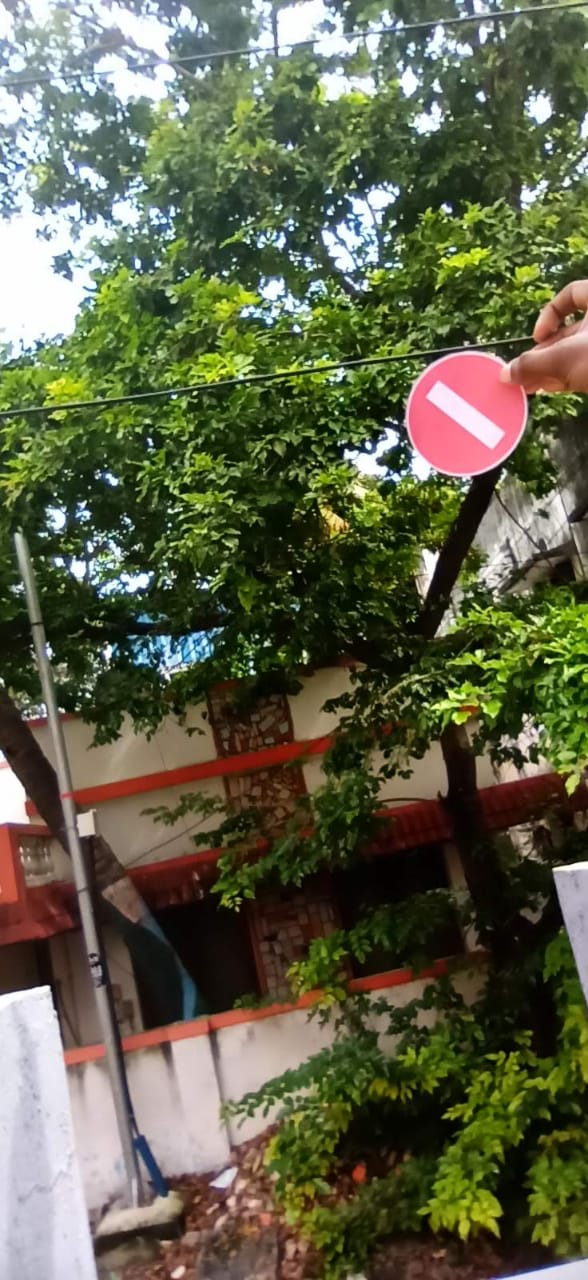NO ENTRY: (397, 334, 543, 490)
